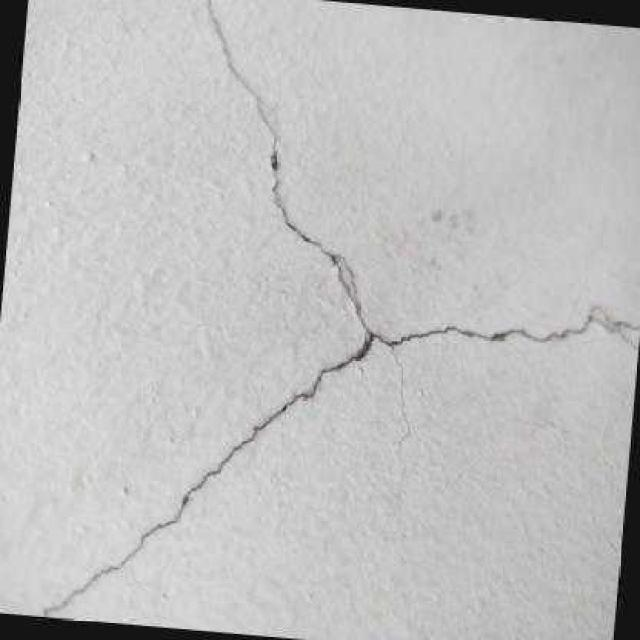D00: (43, 0, 637, 615)
